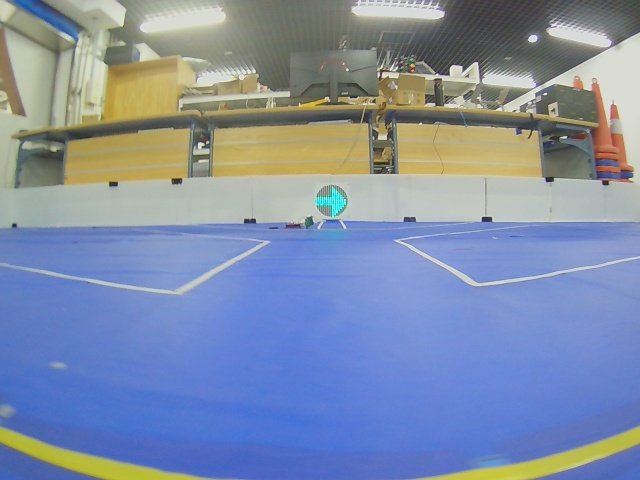right_green: (315, 185, 348, 217)
